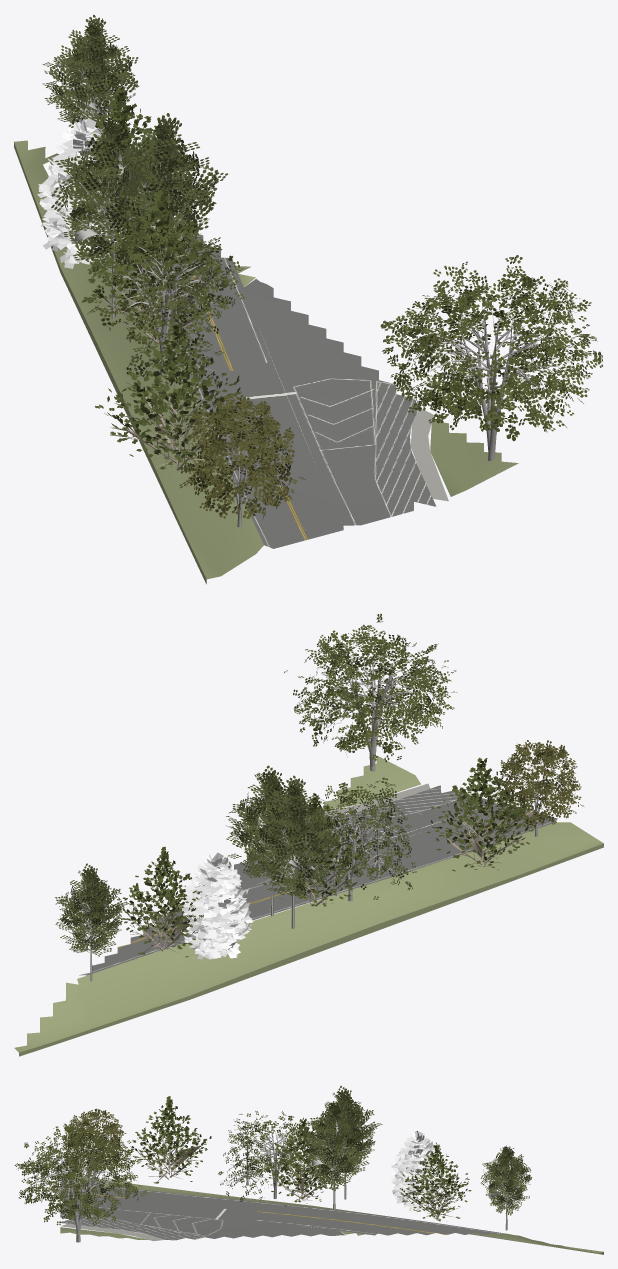
3 renders of one model, top to bottom at view 1: azimuth 30°, elevation 25°; view 2: azimuth 150°, elevation 25°; view 3: azimuth 270°, elevation 25°, orthographic. The views are drawn at different scales.
Parts seen in each view (by area): view 1: SW_ground_west_asphalt_-3_1_UNVERIFIED, SW_W_trees_Tree_039_UNVERIFIEDspecies, SW_W_trees_Tree_041_UNVERIFIEDspecies, SW_ground_west_lawn_-3_1, SW_W_trees_Tree_082_UNVERIFIEDspecies, SW_W_trees_Tree_103_UNVERIFIEDspecies, SW_W_trees_Tree_098_UNVERIFIEDspecies, SW_ground_west_asphalt_-3_1, SW_W_trees_Tree_086_UNVERIFIEDspecies, SW_ground_west_concrete_-3_1_UNVERIFIED; view 2: SW_ground_west_lawn_-3_1, SW_W_trees_Tree_039_UNVERIFIEDspecies, SW_W_trees_Tree_041_UNVERIFIEDspecies, SW_W_trees_Tree_082_UNVERIFIEDspecies, SW_ground_west_asphalt_-3_1_UNVERIFIED, SW_W_trees_Tree_098_UNVERIFIEDspecies, SW_W_trees_Tree_103_UNVERIFIEDspecies, SW_W_trees_Tree_086_UNVERIFIEDspecies, SW_ground_west_asphalt_-3_1, SW_ground_west_concrete_-3_1_UNVERIFIED; view 3: SW_ground_west_asphalt_-3_1_UNVERIFIED, SW_W_trees_Tree_039_UNVERIFIEDspecies, SW_W_trees_Tree_082_UNVERIFIEDspecies, SW_W_trees_Tree_041_UNVERIFIEDspecies, SW_W_trees_Tree_098_UNVERIFIEDspecies, SW_ground_west_lawn_-3_1, SW_W_trees_Tree_103_UNVERIFIEDspecies, SW_W_trees_Tree_086_UNVERIFIEDspecies, SW_ground_west_asphalt_-3_1, SW_ground_west_concrete_-3_1_UNVERIFIED.
Part boxes in pixels (x1=…): SW_ground_west_asphalt_-3_1_UNVERIFIED: x1=137, y1=215, x2=419, y2=548; SW_W_trees_Tree_039_UNVERIFIEDspecies: x1=87, y1=216, x2=602, y2=527; SW_W_trees_Tree_041_UNVERIFIEDspecies: x1=42, y1=14, x2=227, y2=318; SW_ground_west_lawn_-3_1: x1=14, y1=140, x2=518, y2=584; SW_W_trees_Tree_082_UNVERIFIEDspecies: x1=82, y1=86, x2=243, y2=471; SW_W_trees_Tree_103_UNVERIFIEDspecies: x1=179, y1=394, x2=305, y2=518; SW_W_trees_Tree_098_UNVERIFIEDspecies: x1=37, y1=118, x2=126, y2=268; SW_ground_west_asphalt_-3_1: x1=322, y1=470, x2=436, y2=525; SW_W_trees_Tree_086_UNVERIFIEDspecies: x1=126, y1=245, x2=227, y2=412; SW_ground_west_concrete_-3_1_UNVERIFIED: x1=410, y1=409, x2=448, y2=501; SW_ground_west_lawn_-3_1: x1=14, y1=756, x2=603, y2=1056; SW_W_trees_Tree_039_UNVERIFIEDspecies: x1=284, y1=614, x2=546, y2=901; SW_W_trees_Tree_041_UNVERIFIEDspecies: x1=55, y1=765, x2=337, y2=981; SW_W_trees_Tree_082_UNVERIFIEDspecies: x1=115, y1=757, x2=532, y2=957; SW_ground_west_asphalt_-3_1_UNVERIFIED: x1=79, y1=801, x2=557, y2=975; SW_W_trees_Tree_098_UNVERIFIEDspecies: x1=181, y1=852, x2=253, y2=959; SW_W_trees_Tree_103_UNVERIFIEDspecies: x1=491, y1=740, x2=583, y2=830; SW_W_trees_Tree_086_UNVERIFIEDspecies: x1=345, y1=777, x2=416, y2=899; SW_ground_west_asphalt_-3_1: x1=395, y1=785, x2=499, y2=825; SW_ground_west_concrete_-3_1_UNVERIFIED: x1=320, y1=783, x2=430, y2=816; SW_ground_west_asphalt_-3_1_UNVERIFIED: x1=60, y1=1181, x2=502, y2=1240; SW_W_trees_Tree_039_UNVERIFIEDspecies: x1=14, y1=1111, x2=314, y2=1242; SW_W_trees_Tree_082_UNVERIFIEDspecies: x1=127, y1=1096, x2=471, y2=1221; SW_W_trees_Tree_041_UNVERIFIEDspecies: x1=300, y1=1085, x2=531, y2=1230; SW_W_trees_Tree_098_UNVERIFIEDspecies: x1=391, y1=1131, x2=442, y2=1213; SW_ground_west_lawn_-3_1: x1=60, y1=1174, x2=603, y2=1254; SW_W_trees_Tree_103_UNVERIFIEDspecies: x1=62, y1=1108, x2=131, y2=1173; SW_W_trees_Tree_086_UNVERIFIEDspecies: x1=218, y1=1113, x2=273, y2=1201; SW_ground_west_asphalt_-3_1: x1=59, y1=1201, x2=117, y2=1227; SW_ground_west_concrete_-3_1_UNVERIFIED: x1=61, y1=1224, x2=164, y2=1241.
Size of the model in its own units: 44.85 by 26.35 by 106.
17 materials, 9 textured.
